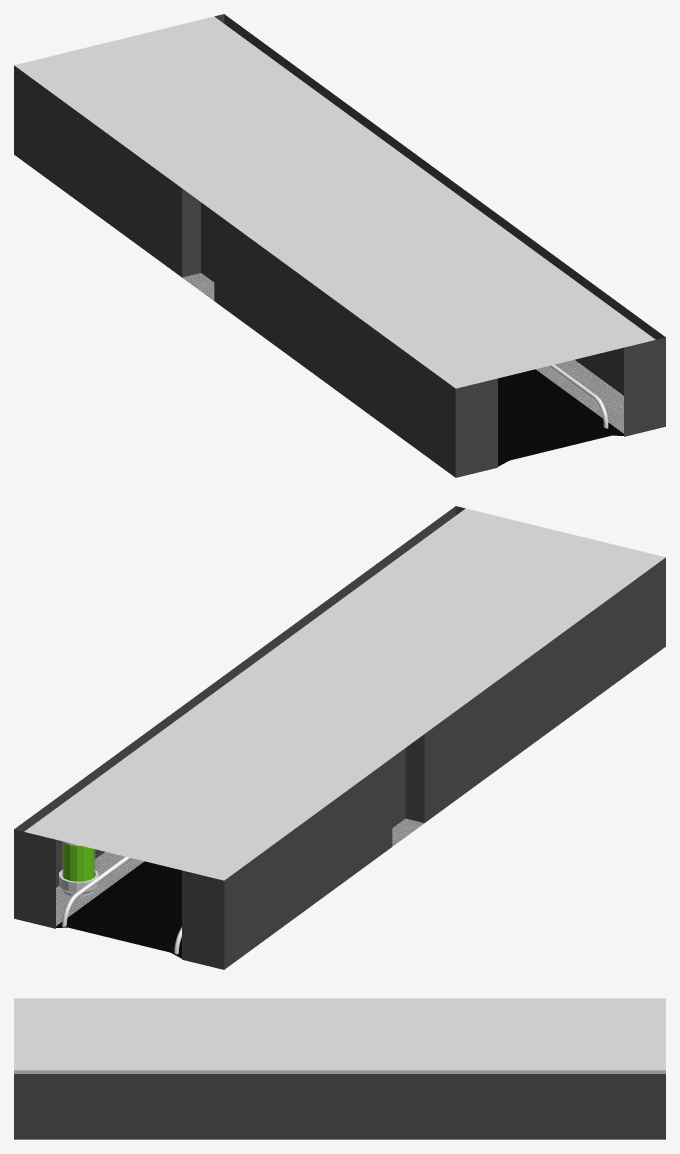
Rendered from corredor3(1) (1).fbx.
3 renders of one model, top to bottom at view 1: azimuth 30°, elevation 25°; view 2: azimuth 150°, elevation 25°; view 3: azimuth 270°, elevation 25°, orthographic. The views are drawn at different scales.
Parts seen in each view (by area): view 1: TetoComeco, paredes, Chao; view 2: TetoComeco, paredes, Chao, Chao.002; view 3: TetoComeco, paredes.
Part boxes in pixels (x1,y1,x2,y2): TetoComeco: (14, 16, 655, 388); paredes: (14, 14, 665, 477); Chao: (182, 273, 623, 466); TetoComeco: (24, 508, 665, 880); paredes: (14, 506, 665, 969); Chao: (56, 818, 424, 958); Chao.002: (59, 841, 98, 896); TetoComeco: (14, 998, 665, 1073); paredes: (14, 1074, 665, 1139).
Size of the model in its own units: 514 by 209 by 1873.
